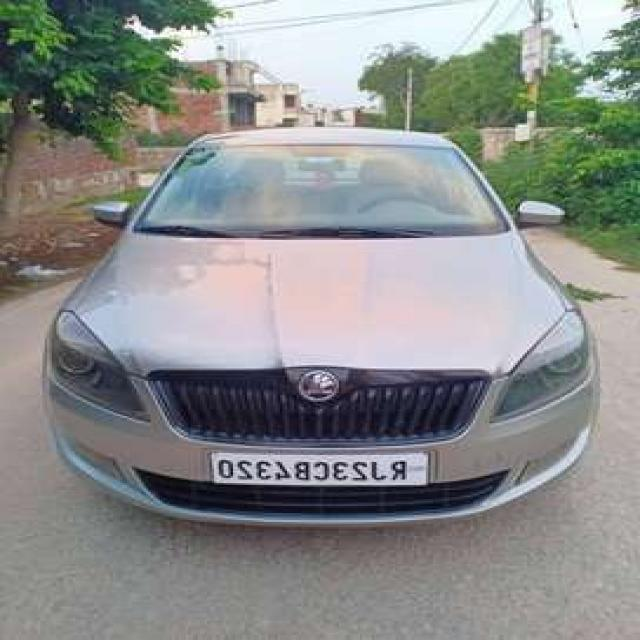license_plate: (203, 447, 434, 492)
